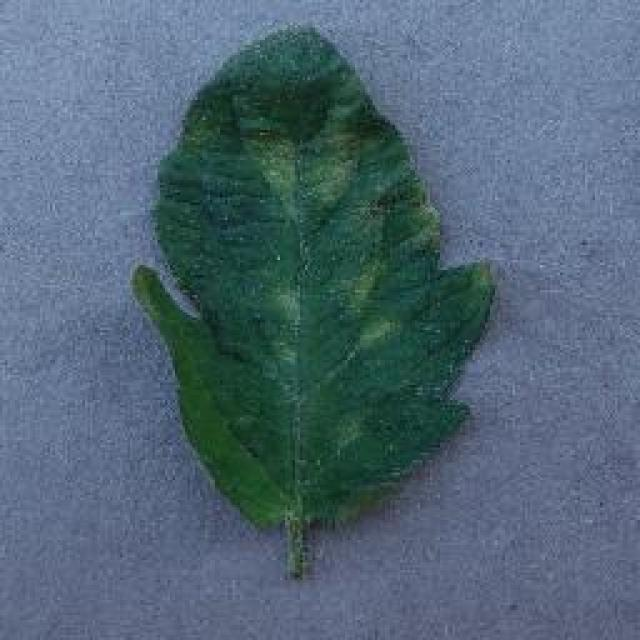Tomato___Leaf_Mold: (132, 28, 492, 575)
